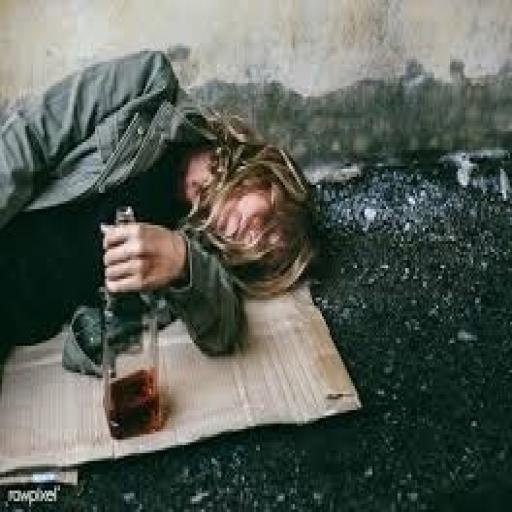sleeping: (0, 46, 324, 392)
